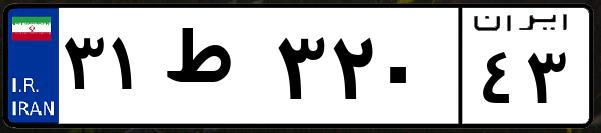0: (385, 28, 445, 110)
1: (110, 28, 158, 98)
2: (330, 28, 385, 110)
3: (270, 28, 330, 110), (57, 26, 110, 100), (525, 38, 570, 115)
4: (475, 38, 525, 113)
ط: (158, 20, 270, 120)
